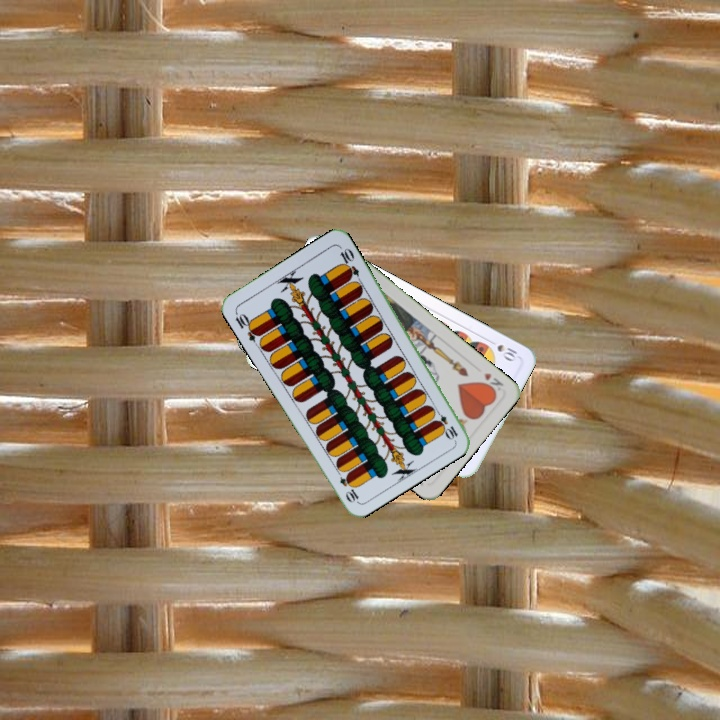E10: (231, 308, 263, 344), (430, 405, 460, 442)
HK: (478, 369, 506, 396)
S10: (484, 335, 521, 364)
